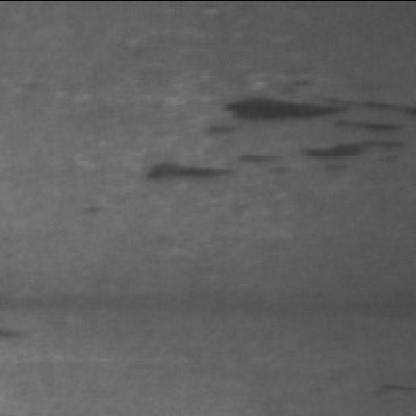inclusion: (200, 83, 412, 166), (0, 285, 193, 346), (137, 150, 279, 190)
